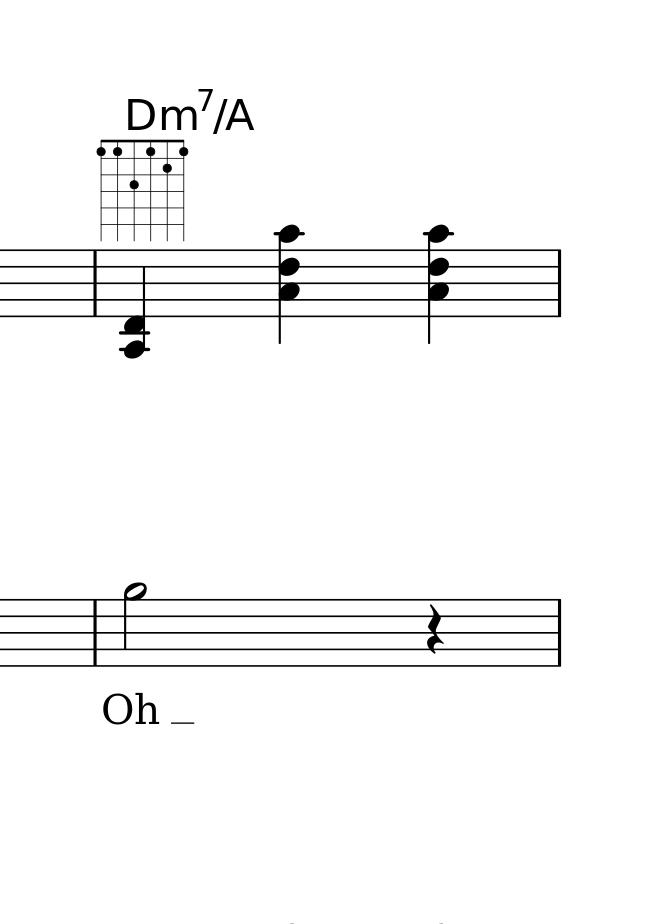2_9: (123, 582, 148, 669)
4_-4_-1: (119, 249, 152, 361)
4_th: (420, 226, 452, 342), (271, 227, 302, 343)
Fretboard: (95, 138, 190, 242)
Rests4: (425, 602, 445, 655)
Single_barline: (549, 599, 567, 668), (549, 250, 567, 318), (87, 600, 103, 666), (87, 250, 102, 318)
